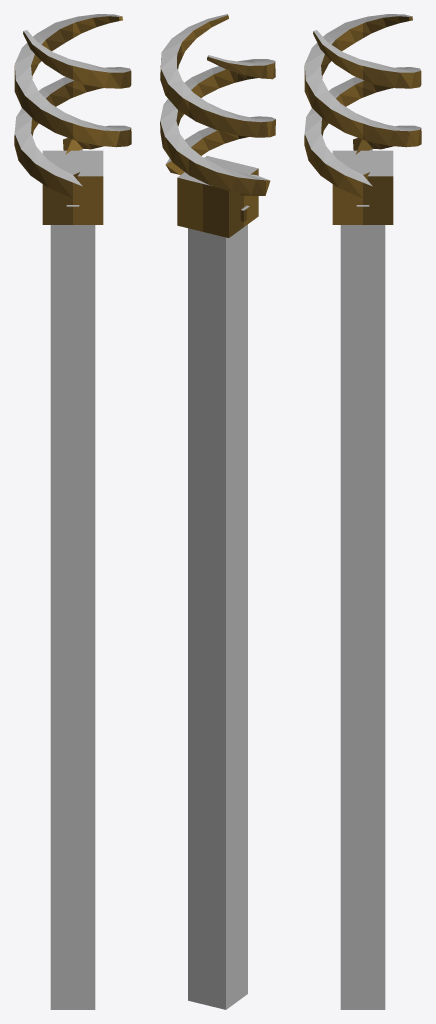
Rendered from worm.obj.
3 renders of one model, left to right at view 1: azimuth 90°, elevation 25°; view 2: azimuth 150°, elevation 25°; view 3: azimuth 270°, elevation 25°, orthographic.
Bounding box in the file's own units: 0.3271 × 3.01 × 0.328.
